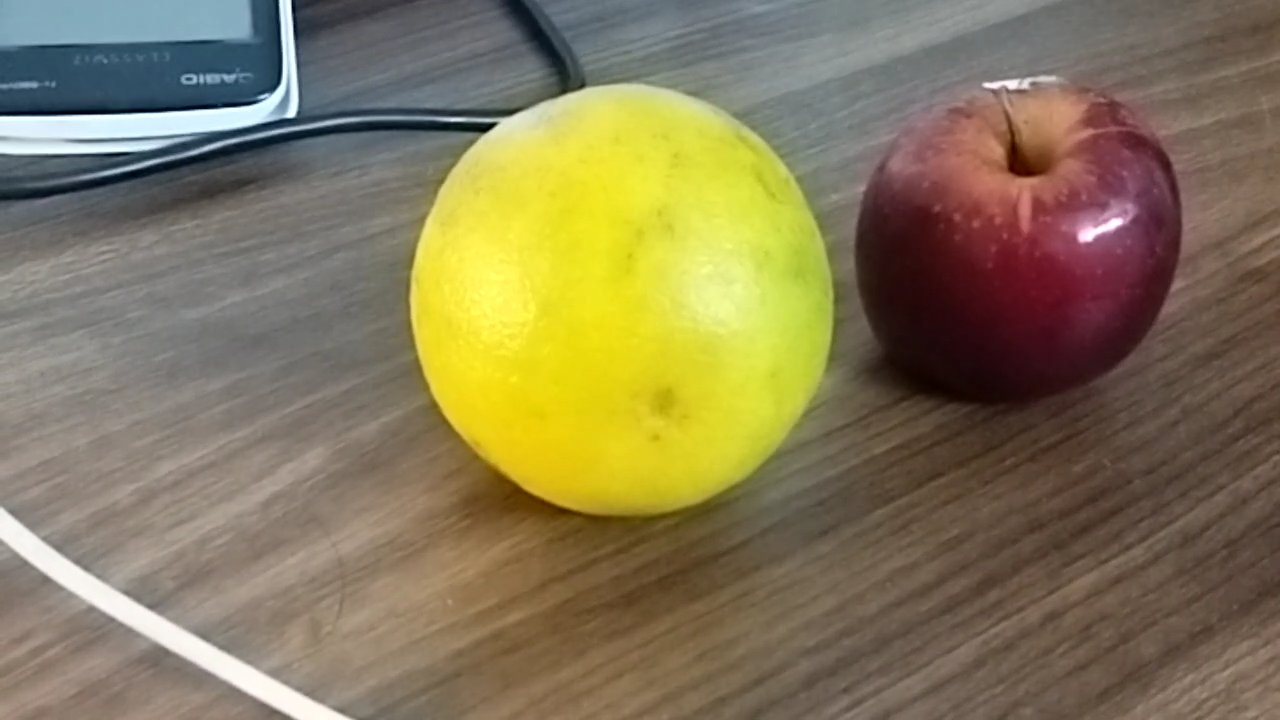apple_rotten: (847, 72, 1189, 412)
orange_rotten: (397, 81, 857, 529)
